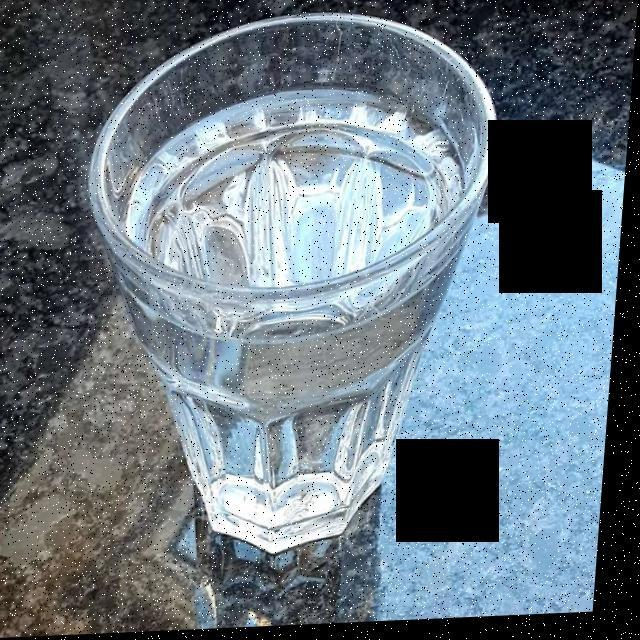water: (124, 96, 492, 536)
